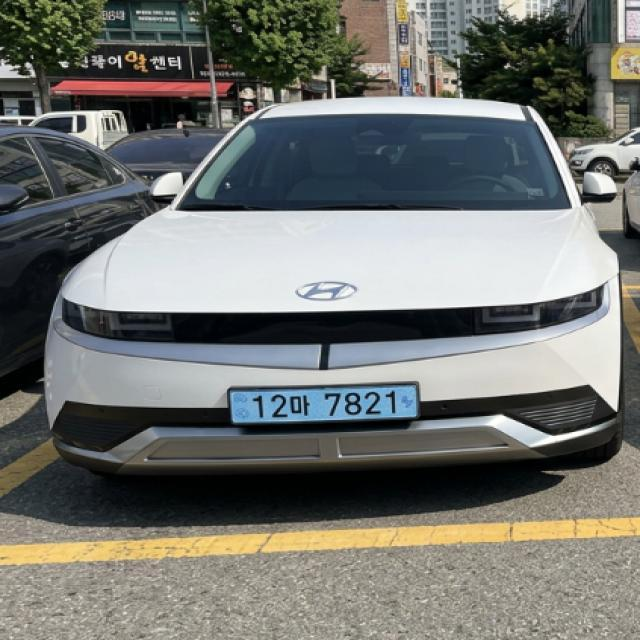car: (187, 371, 461, 443)
carev: (397, 383, 426, 428), (227, 387, 253, 427)
